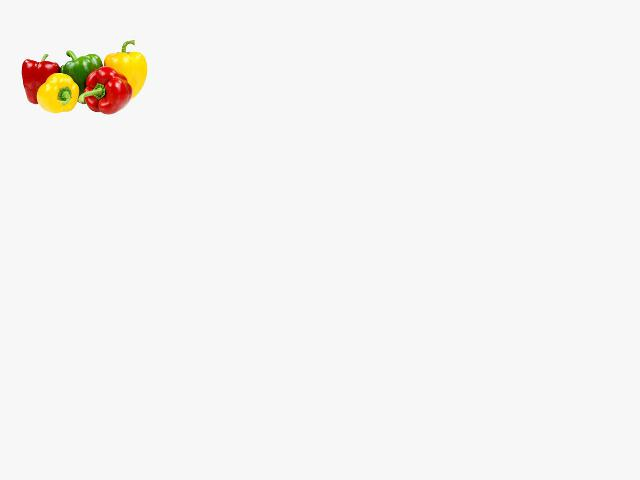bell_pepper: (18, 52, 59, 97)
